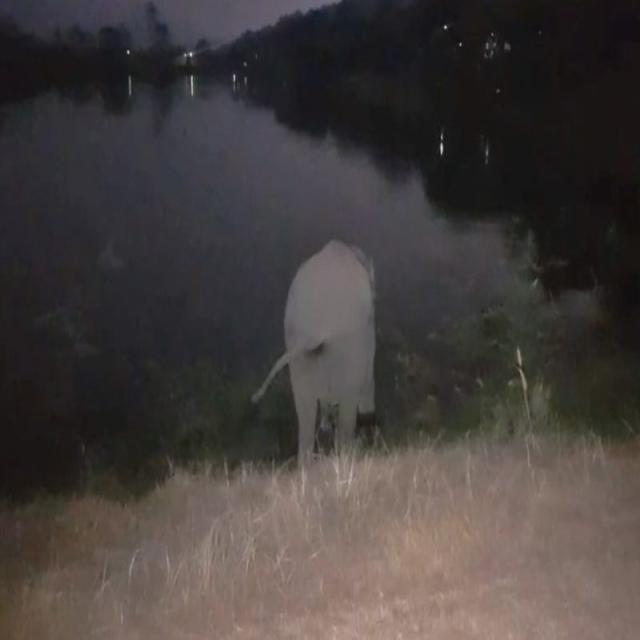Elephant: (243, 218, 404, 508)
